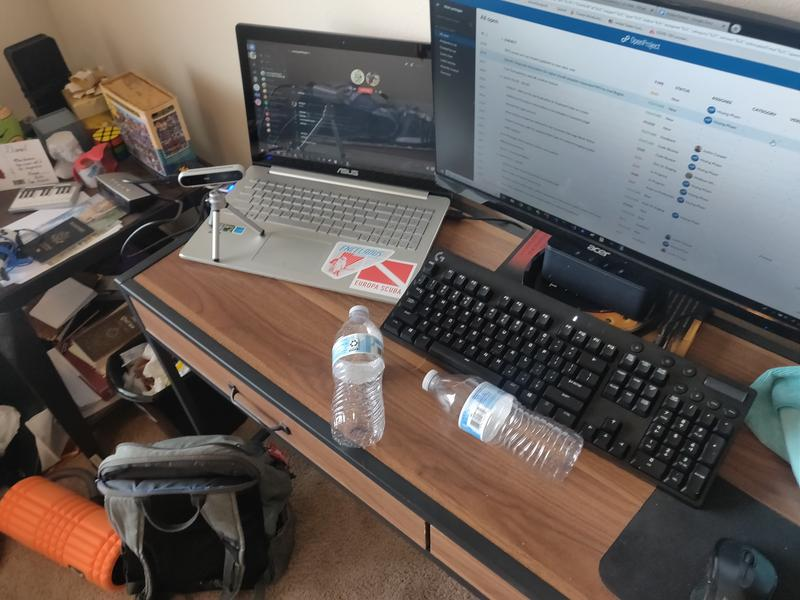bottle: (422, 369, 585, 483), (332, 305, 387, 451)
